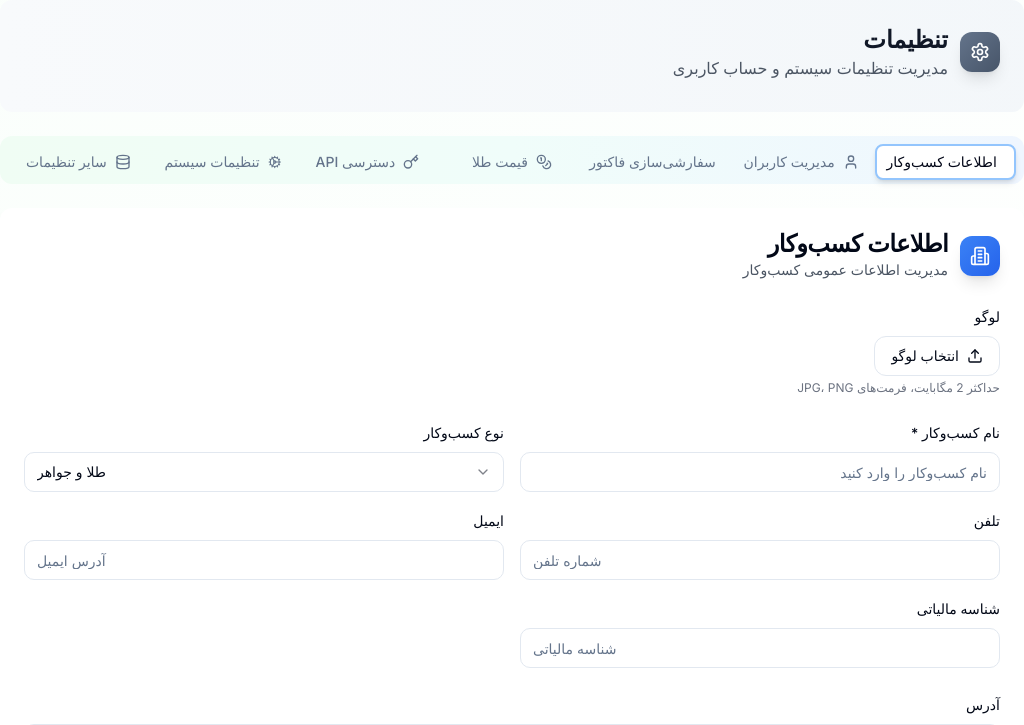
Settings › should switch to external settings tab
Click the button "سایر تنظیمات" at (78, 162), box [8,146,149,178]
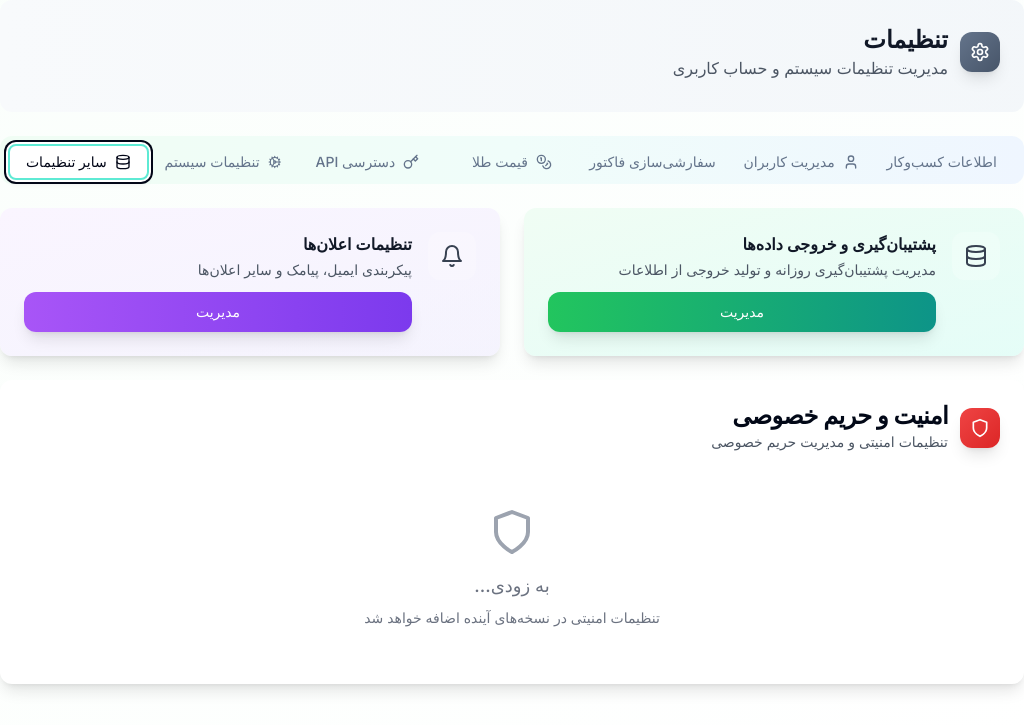
Result: the heading "پشتیبان‌گیری و خروجی داده‌ها" is shown at [742,234,936,254]
Result: the heading "تنظیمات اعلان‌ها" is shown at [303,234,412,254]
Result: the heading "امنیت و حریم خصوصی" is shown at [711,404,948,428]
